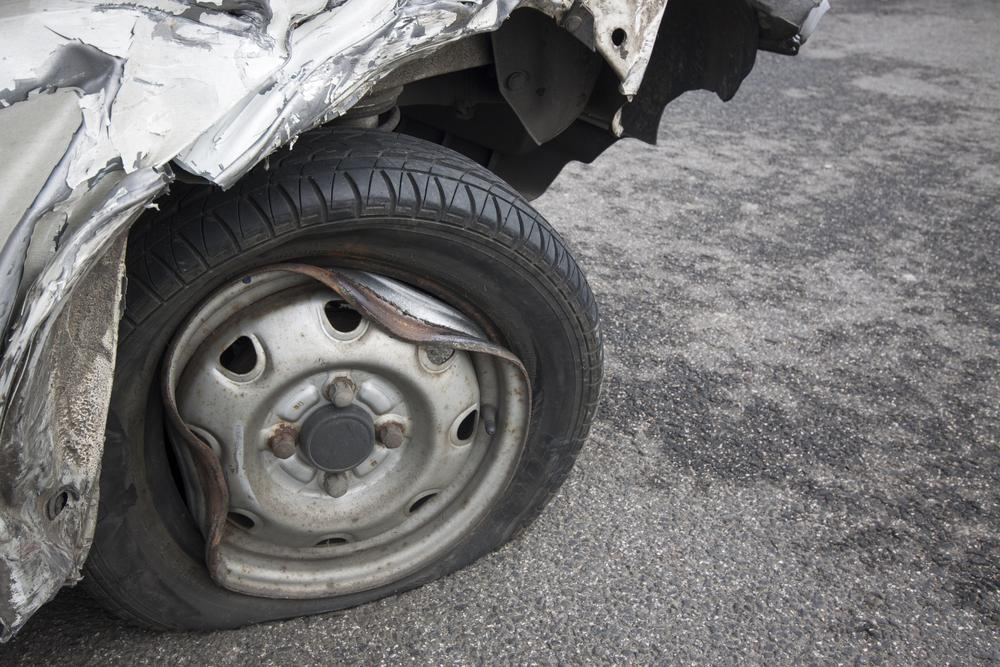dent: (0, 0, 523, 625)
tire flat: (80, 129, 606, 633)
